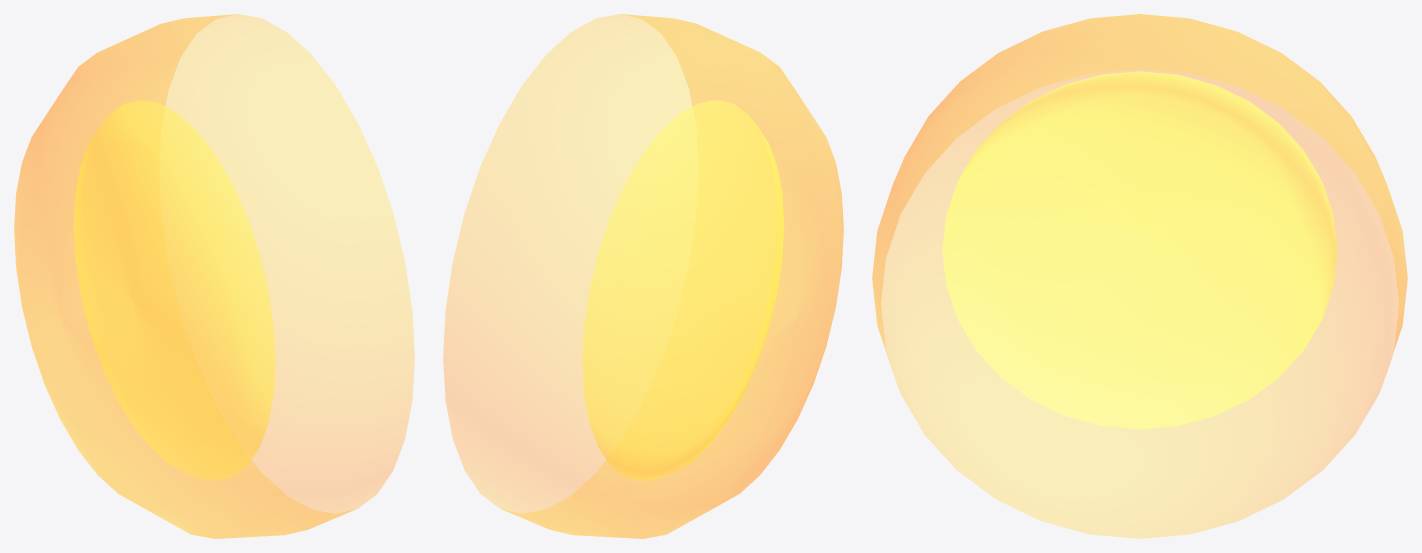
File: kapsel_gluehen.glb
3 views of the same model, side by side, from view 1: azimuth 30°, elevation 25°; view 2: azimuth 150°, elevation 25°; view 3: azimuth 270°, elevation 25° (orthographic).
Visible parts, largest first — view 1: kapsel_gluehen; view 2: kapsel_gluehen; view 3: kapsel_gluehen.
Boxes of the visible parts, bbox=[...] form: kapsel_gluehen: bbox=[14, 14, 414, 538]; kapsel_gluehen: bbox=[443, 14, 843, 538]; kapsel_gluehen: bbox=[872, 14, 1407, 538].
Bounding box in the file's own units: 3 × 6.1 × 6.1.
